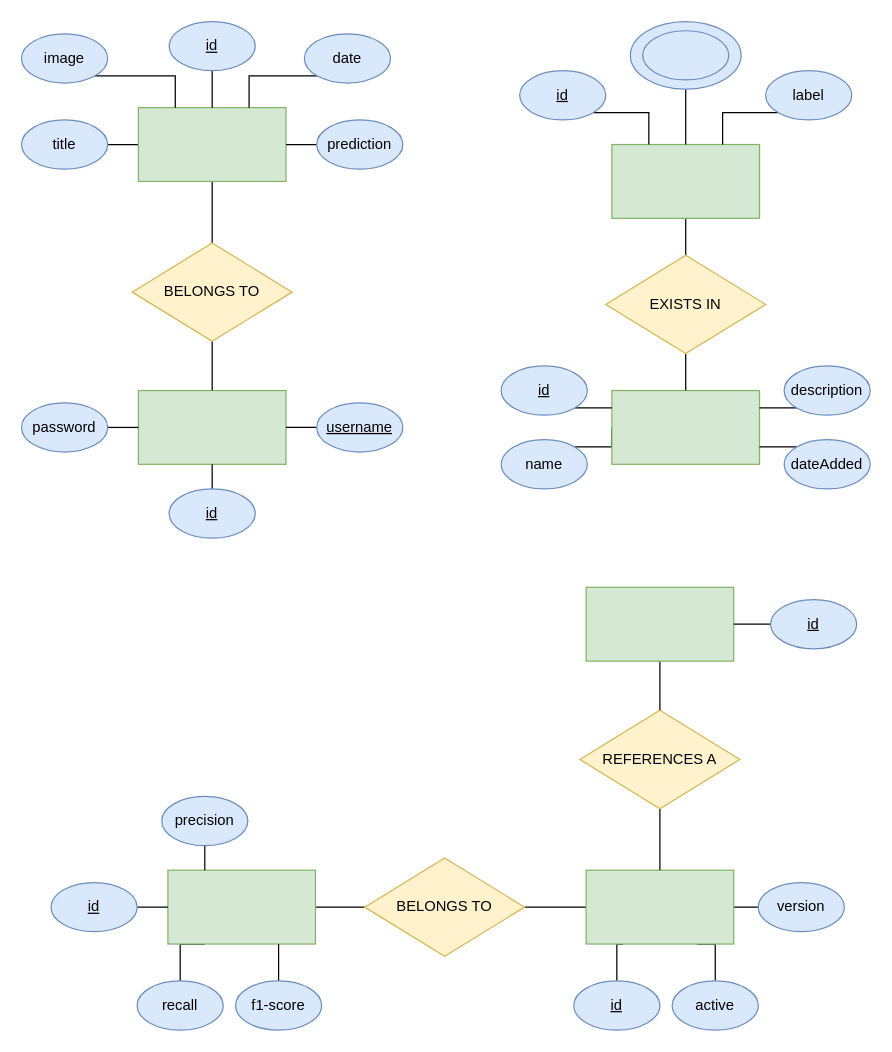
This 892x1052 diagram has some shape labels left out. Here are the shapes that lost their labels. From the top down, the centre of each, then its label:
pixel 685 55: pixel
pixel 211 143: USER_IMAGE
pixel 685 180: DATASET_IMAGE
pixel 211 426: USER
pixel 685 426: DATASET
pixel 659 623: DEPLOYED_MODEL
pixel 241 906: MODEL_METRICS
pixel 659 906: DL_MODEL
